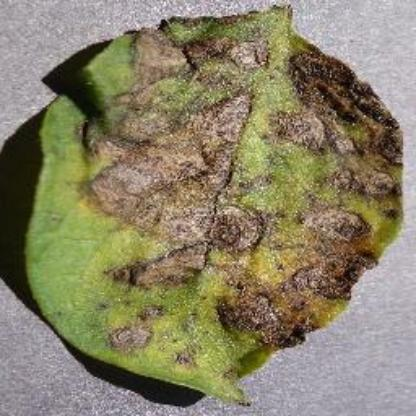Early-Blight: (24, 2, 411, 404)
